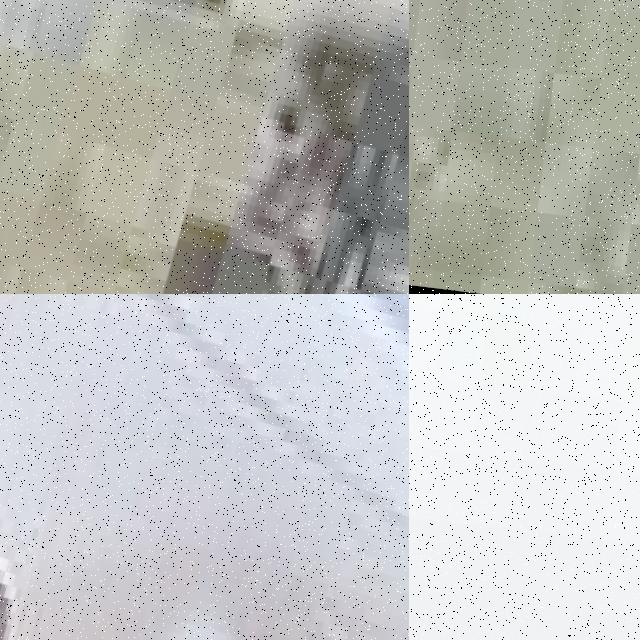drone: (0, 294, 409, 640), (0, 0, 409, 294)
